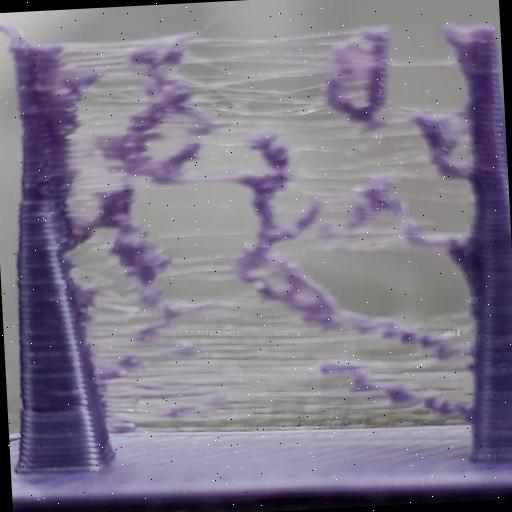stringing: (102, 332, 338, 439), (328, 301, 488, 429), (63, 156, 164, 352), (159, 254, 338, 354), (58, 40, 220, 150), (226, 38, 396, 134), (206, 130, 374, 206), (367, 102, 486, 181), (344, 193, 466, 254), (258, 197, 350, 253)
